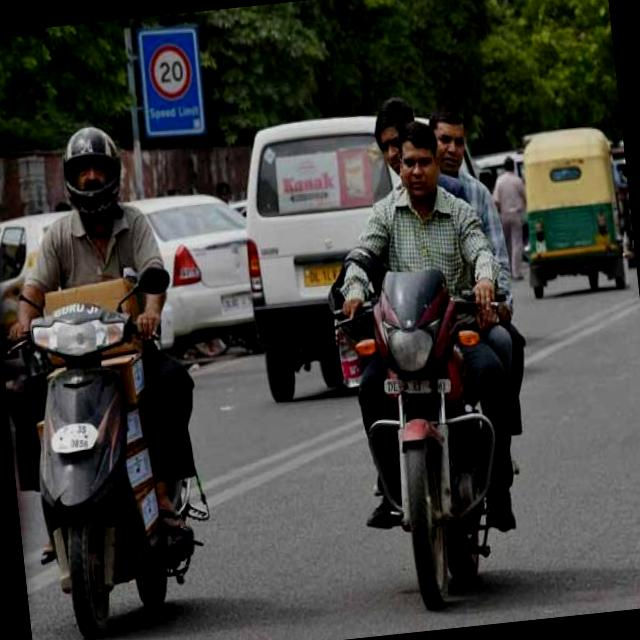motorcycle: (339, 247, 543, 616), (5, 262, 178, 639)
person: (0, 117, 173, 352), (348, 115, 506, 372), (362, 84, 507, 360), (408, 96, 516, 334)
rider_region: (309, 82, 557, 628), (0, 114, 220, 640)
